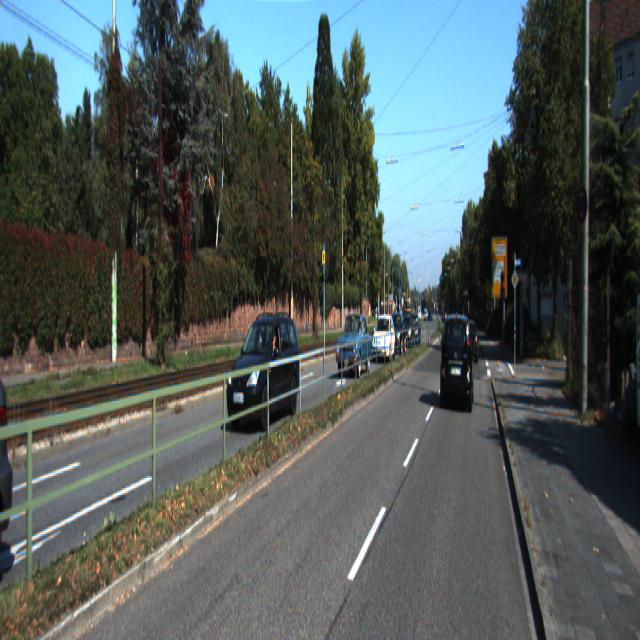Car: (227, 311, 304, 436), (440, 310, 475, 412), (336, 312, 374, 378), (373, 312, 396, 364), (388, 310, 407, 356), (461, 317, 478, 364), (402, 310, 416, 350)
DontCare: (0, 352, 20, 557), (422, 298, 430, 324)
